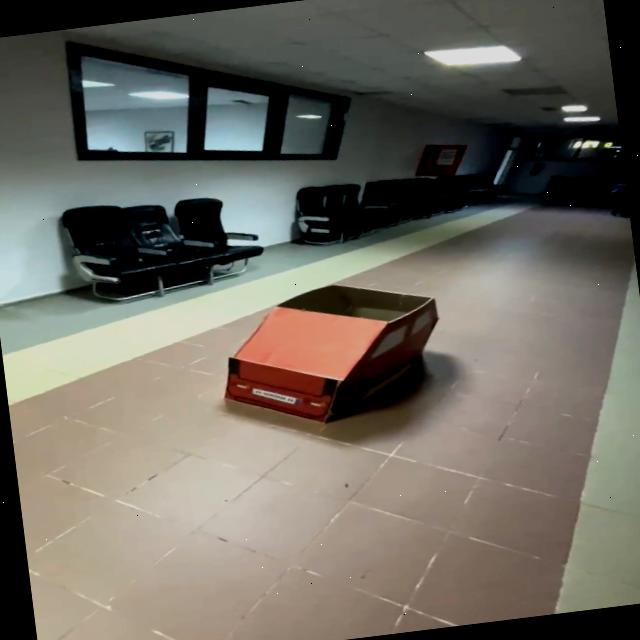red_car: (187, 252, 485, 446)
